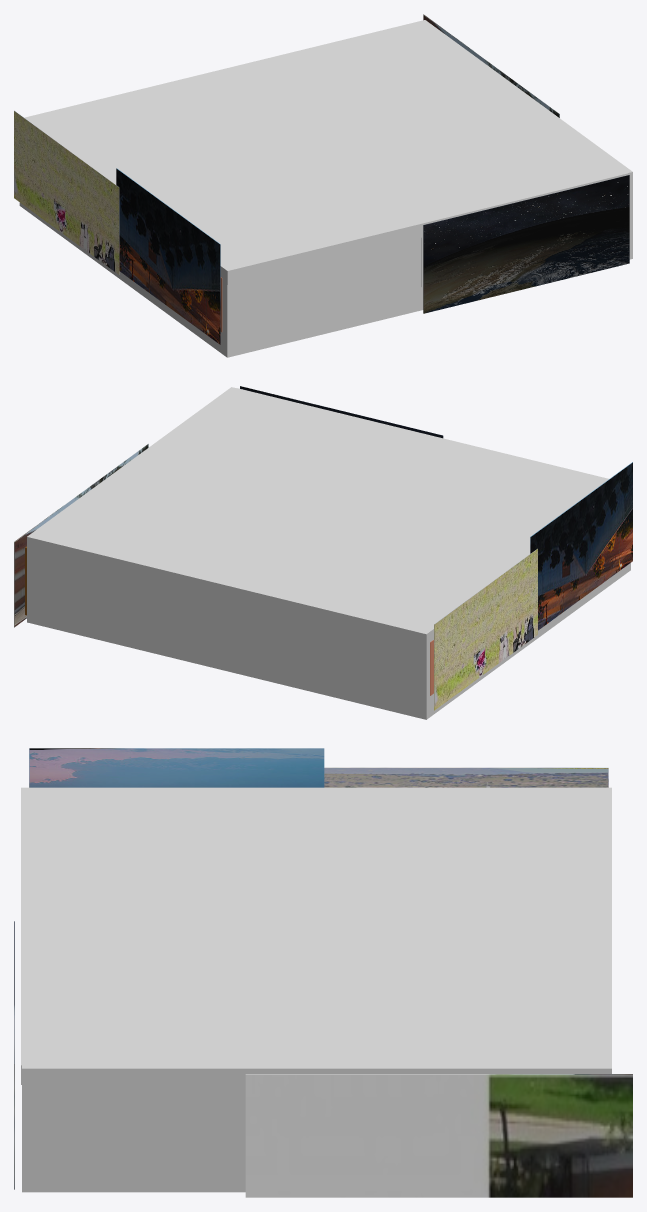
Rendered from museo2 (1).glb.
3 views of the same model, one above another, from view 1: azimuth 30°, elevation 25°; view 2: azimuth 150°, elevation 25°; view 3: azimuth 270°, elevation 25° (orthographic). The views are drawn at different scales.
Visible parts, largest first — view 1: Plane, Cube.005, Cube.006, Cube.007, Cube.002; view 2: Plane, Cube.006, Cube.007, Cube.002, Cube.005; view 3: Plane, Cube.002, Cube.006, Cube.007.
Boxes of the visible parts, box(x1,y1,x2,y2) form: Plane: box(19, 20, 632, 357); Cube.005: box(423, 175, 629, 313); Cube.006: box(116, 168, 220, 344); Cube.007: box(14, 110, 119, 274); Cube.002: box(423, 14, 559, 117); Plane: box(27, 387, 630, 719); Cube.006: box(530, 462, 632, 630); Cube.007: box(434, 548, 537, 710); Cube.002: box(14, 443, 148, 627); Cube.005: box(240, 386, 443, 438); Plane: box(21, 787, 611, 1192); Cube.002: box(245, 1074, 632, 1197); Cube.006: box(29, 748, 324, 787); Cube.007: box(324, 767, 608, 787).
Bounding box in the file's own units: 742 × 193 × 670.
Materials: 10 (4 with a texture image).
